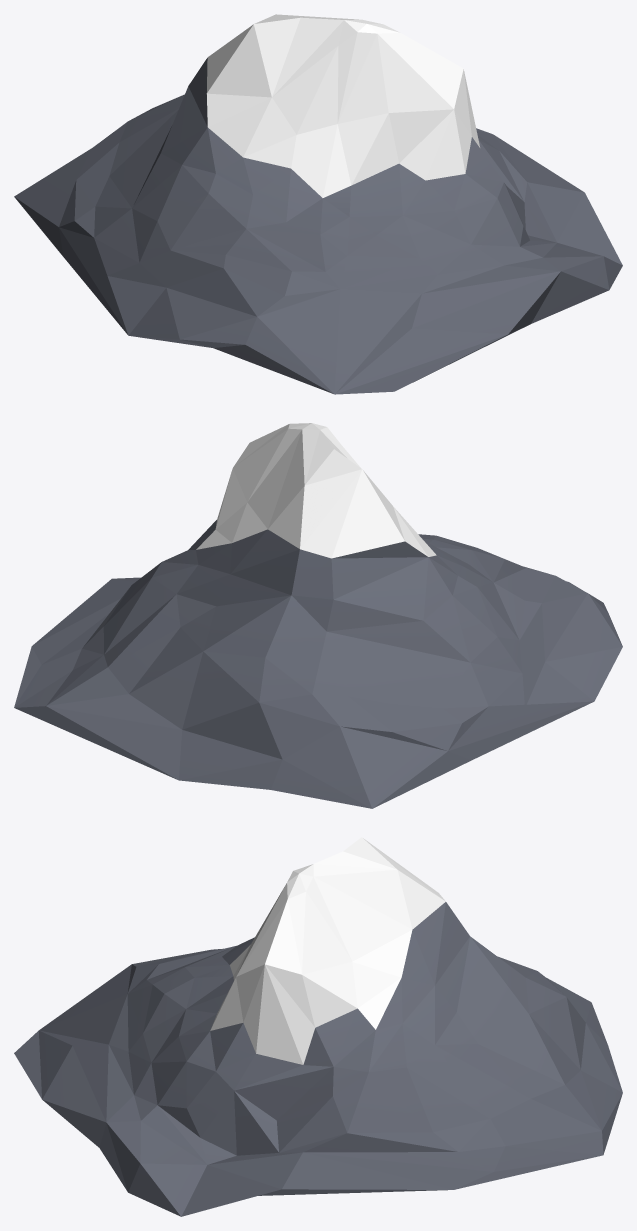
The model's file is Mountain_01.fbx.
3 views of the same model, one above another, from view 1: azimuth 30°, elevation 25°; view 2: azimuth 150°, elevation 25°; view 3: azimuth 270°, elevation 25° (orthographic).
Visible parts, largest first — view 1: Mountain_01; view 2: Mountain_01; view 3: Mountain_01.
Part boxes in pixels (x1,y1,x2,y2): Mountain_01: [14, 14, 622, 394]; Mountain_01: [14, 423, 622, 808]; Mountain_01: [14, 837, 622, 1216].
Bounding box in the file's own units: 71.67 × 36.28 × 80.37.
